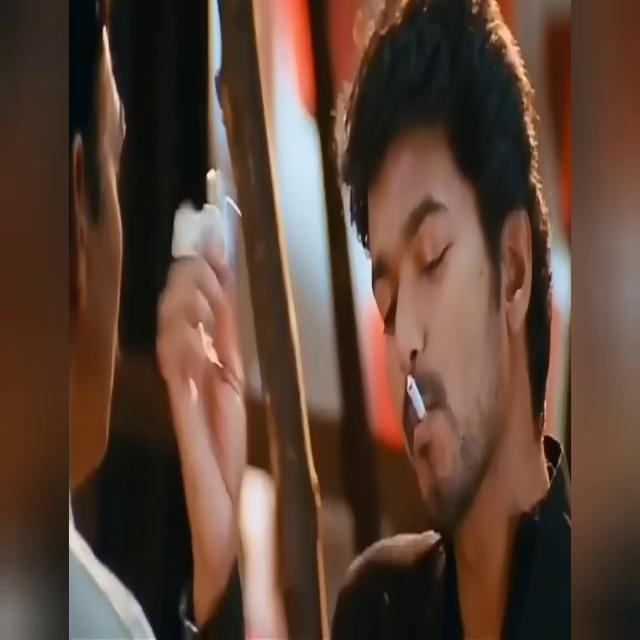smoking: (340, 131, 534, 521)
